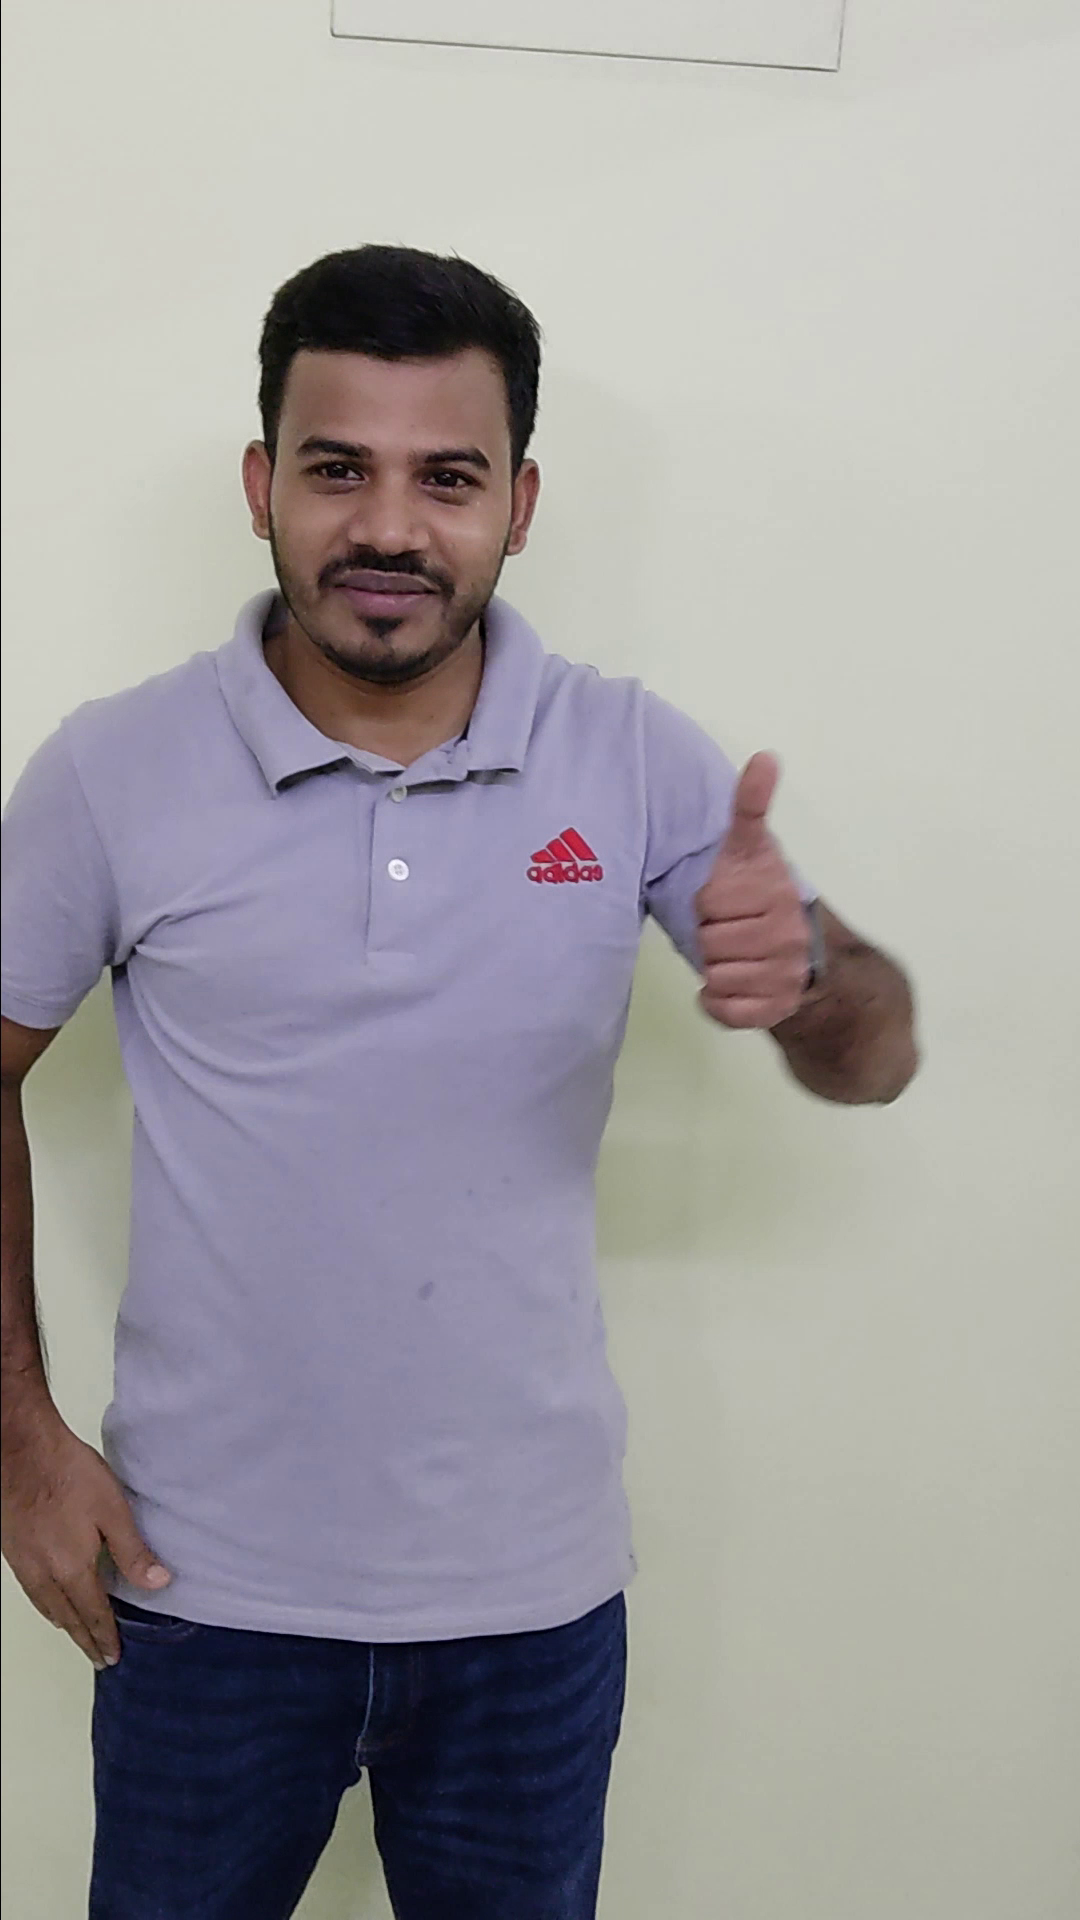Like: (670, 727, 851, 1039)
None: (3, 1395, 191, 1679)
